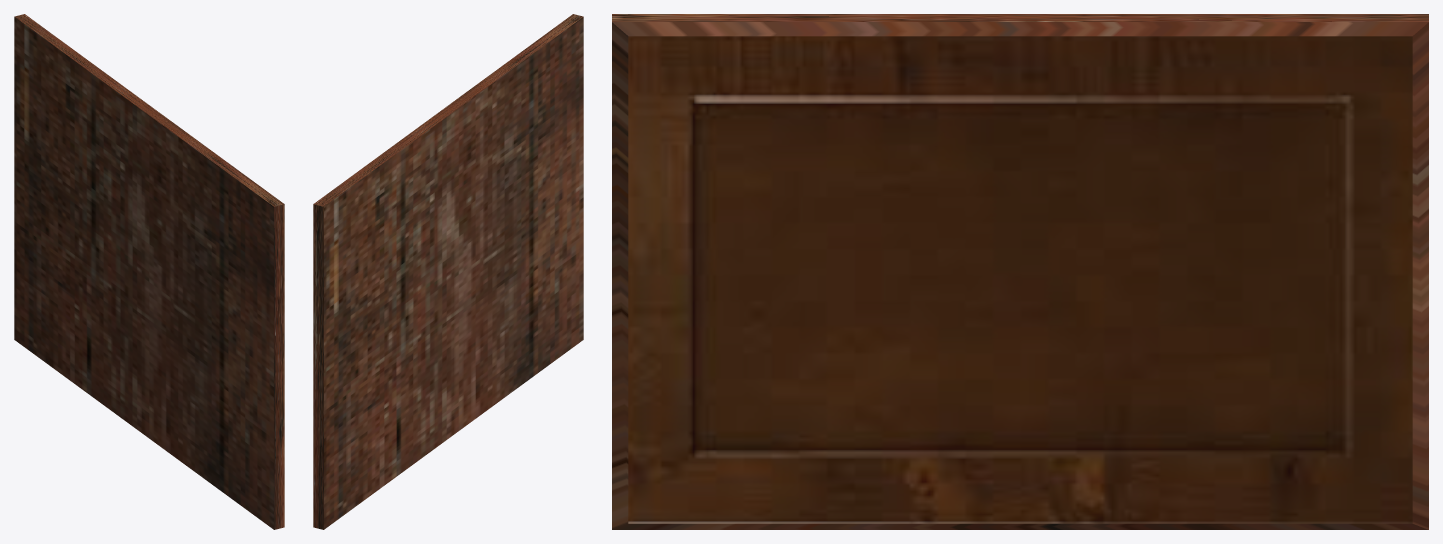
File: storage1_door.glb
3 renders of one model, left to right at view 1: azimuth 30°, elevation 25°; view 2: azimuth 150°, elevation 25°; view 3: azimuth 270°, elevation 25°, orthographic. The views are drawn at different scales.
Visible parts, largest first — view 1: storeage_door; view 2: storeage_door; view 3: storeage_door.
Part boxes in pixels (<box>): storeage_door: <box>14,14,284,529</box>; storeage_door: <box>313,14,583,529</box>; storeage_door: <box>612,14,1428,529</box>.
Size of the model in its own units: 0.0602 by 1.18 by 1.72.
Materials: 2 (2 with a texture image).
